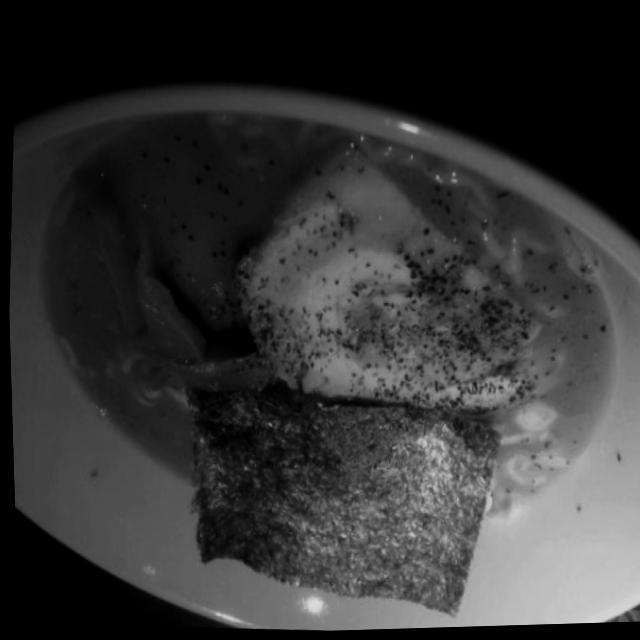面条主食: (2, 78, 640, 640)
